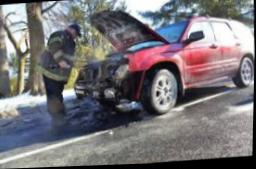Bumper: (73, 57, 134, 99)
